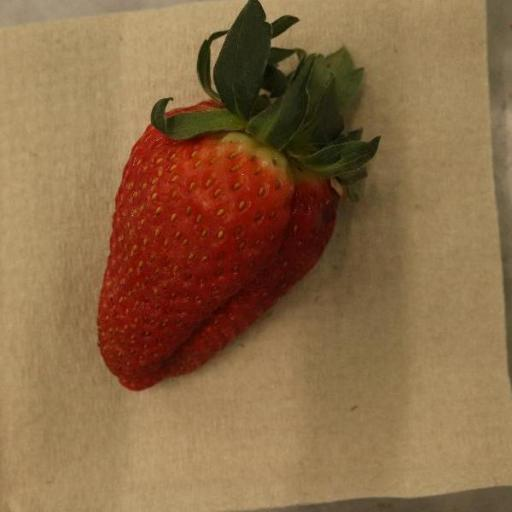Strawberry: (95, 0, 381, 394)
